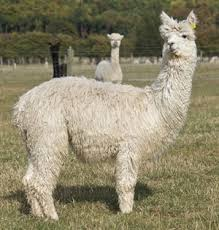alpaca: (13, 8, 197, 222), (95, 32, 124, 85)
